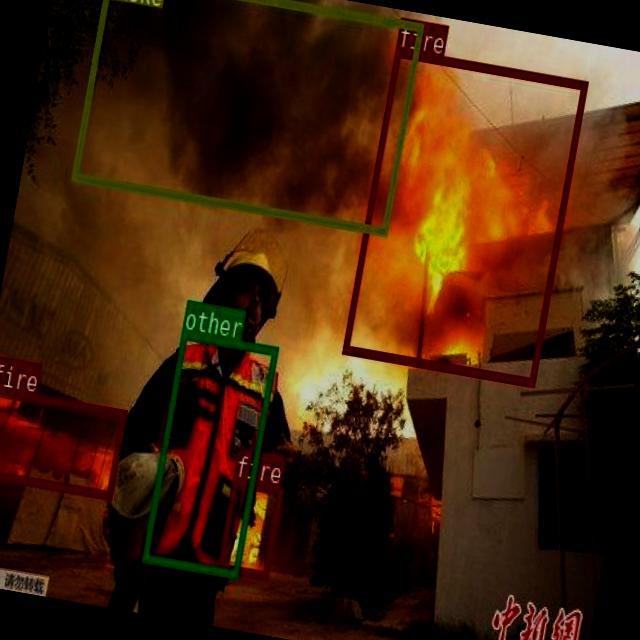fire: (342, 47, 588, 385), (0, 384, 125, 497), (216, 476, 284, 578)
smoke: (71, 0, 422, 233)
